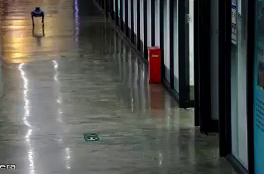robot dog: (29, 6, 48, 28)
